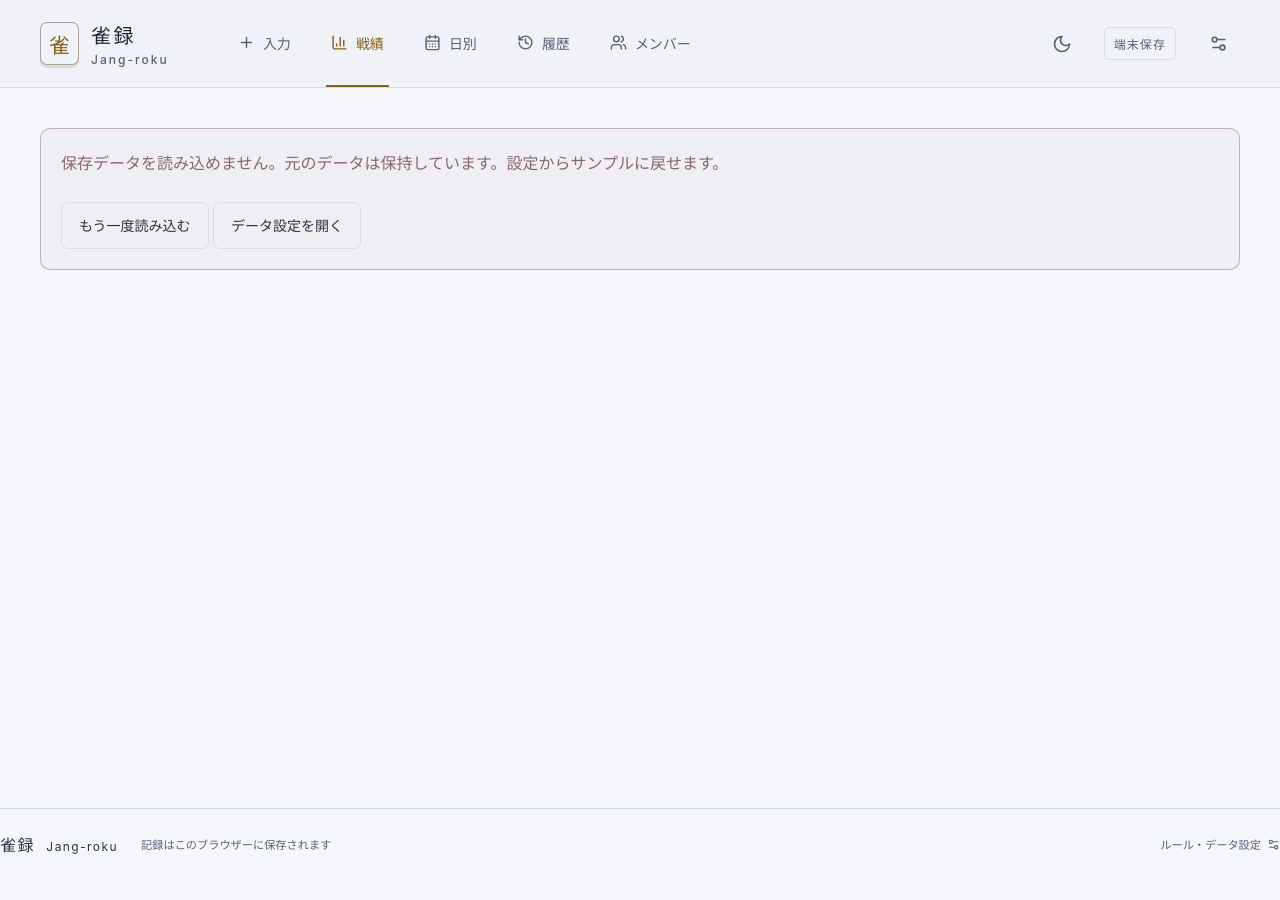
実画面の入力・閲覧・保存 › 破損データでも設定画面から復旧できる
Expected: the message "保存データを読み込めません。元のデータは保持しています。設定からサンプルに戻せます。 もう一度読み込む データ設定を開く" is shown, [40,128,1240,270]
What coordinates should you click on to do the following:
click the link "データ設定を開く"
I would click on:
 (287, 225)
Its box is [213,202,361,249].
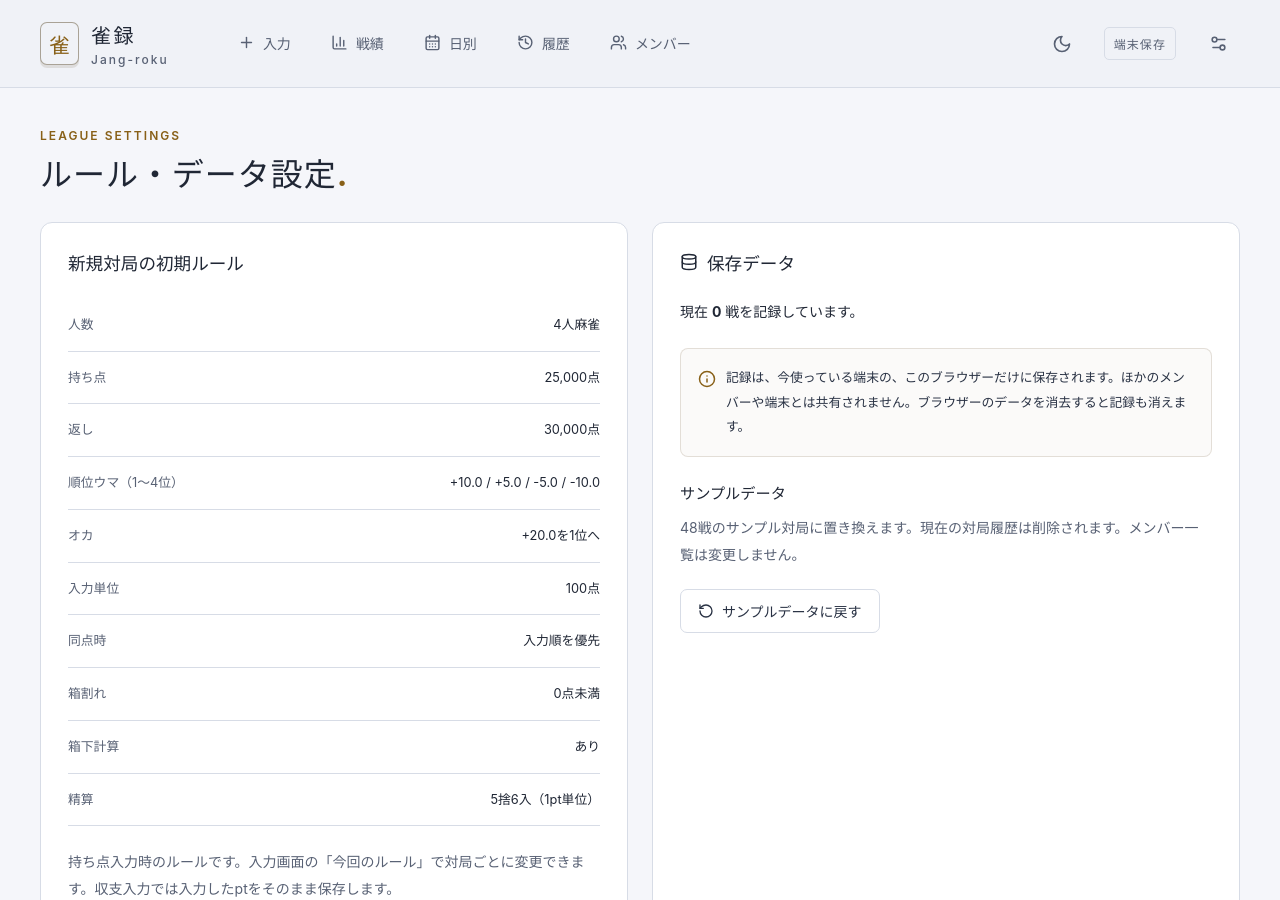
Now the heading "ルール・データ設定." is shown, box [40,153,348,198]
What coordinates should you click on to do the following:
click the button "サンプルデータに戻す"
I would click on:
 (780, 610)
Its box is [680,588,880,632].
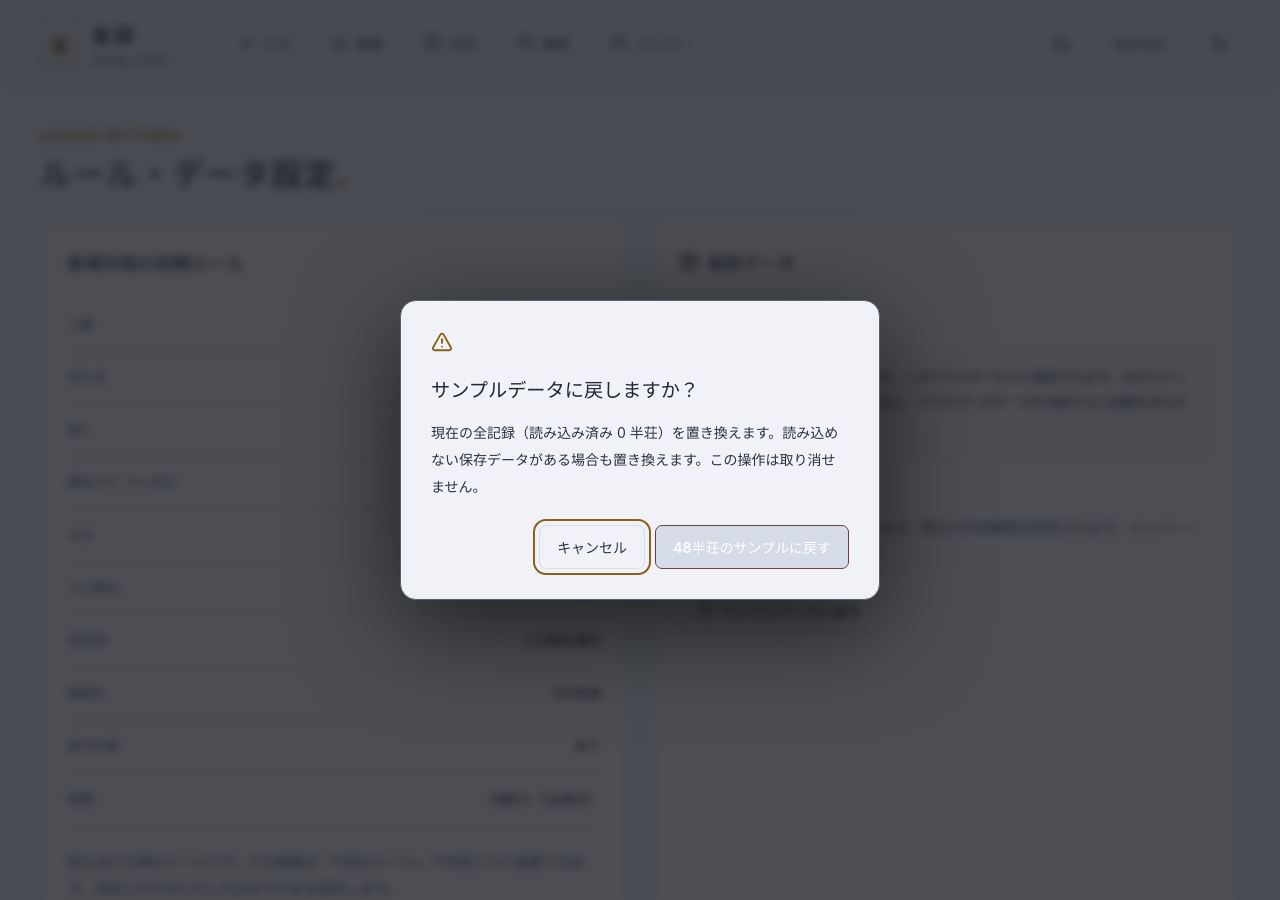
What coordinates should you click on to do the following:
click the button "48半荘のサンプルに戻す"
I would click on:
 (752, 547)
Its box is [655,525,849,569].
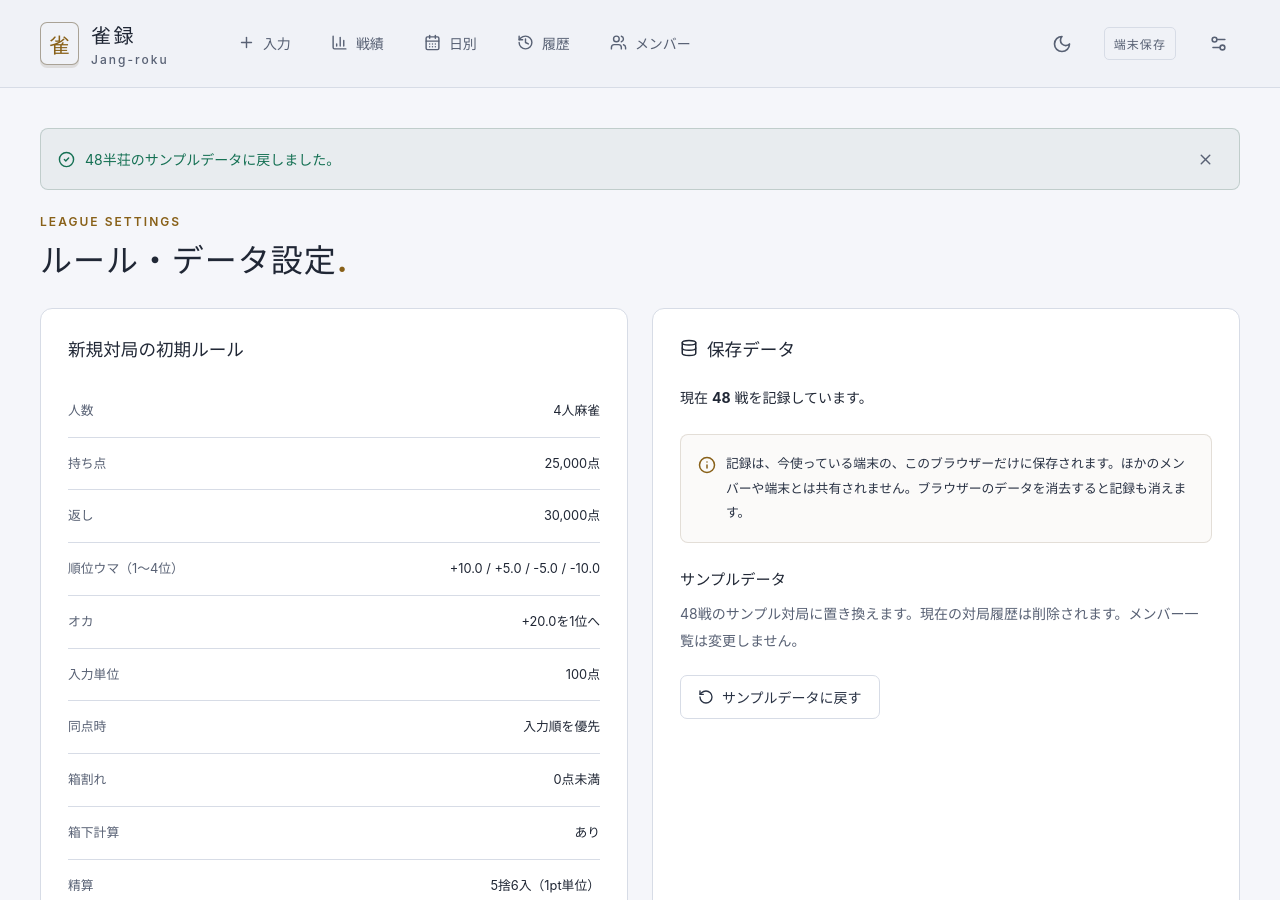
Now the dialog is gone
